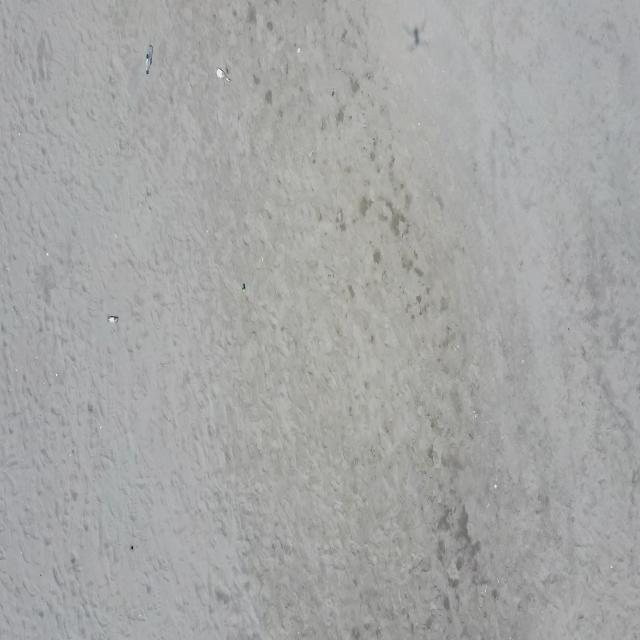glass: (145, 45, 154, 74), (216, 68, 230, 83), (107, 316, 119, 324), (242, 283, 246, 292)
